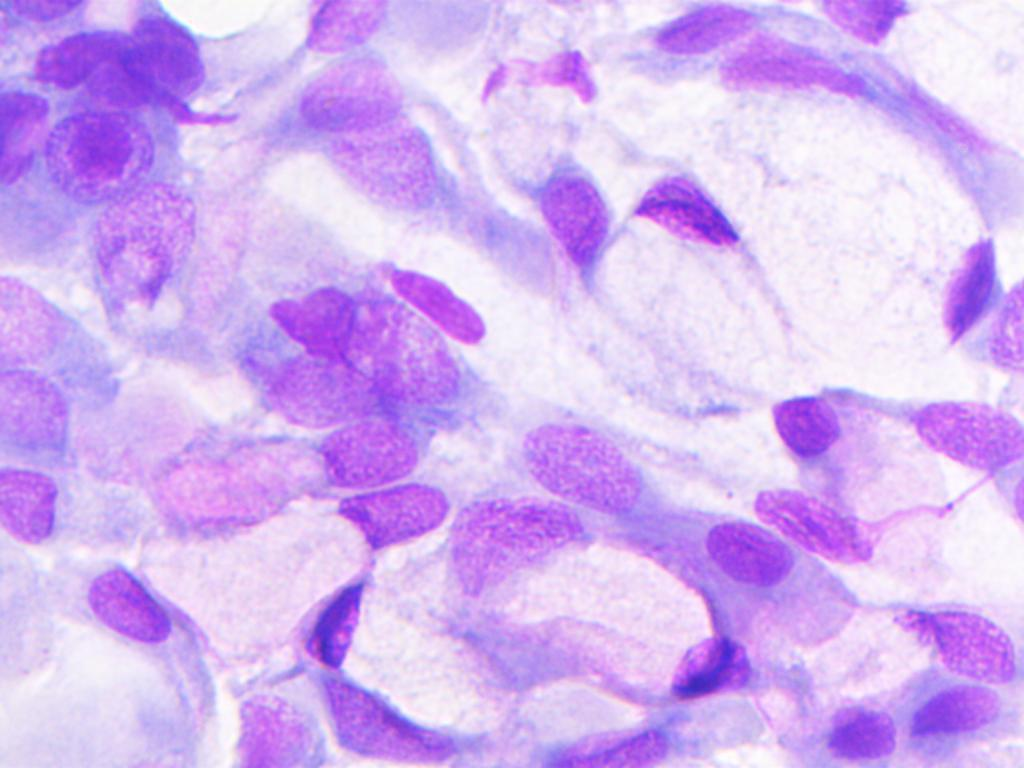artifact: (477, 56, 631, 106)
epithelial: (507, 142, 618, 292), (94, 184, 204, 307), (343, 296, 463, 408), (323, 473, 463, 558), (516, 417, 641, 511), (450, 508, 578, 599), (44, 106, 156, 204), (751, 487, 883, 570), (381, 253, 496, 347), (891, 394, 1024, 474), (890, 604, 1023, 684), (319, 132, 440, 217), (291, 52, 415, 129), (227, 691, 332, 768), (701, 515, 797, 599), (809, 683, 905, 767), (313, 414, 409, 494), (111, 28, 201, 113), (0, 362, 72, 463), (1, 272, 80, 363), (647, 1, 754, 57)
goblet_cell: (557, 164, 810, 418), (285, 576, 520, 744), (772, 392, 949, 533), (84, 547, 282, 642), (871, 210, 1005, 349), (347, 624, 466, 763), (820, 0, 1024, 78), (501, 684, 672, 764), (0, 460, 156, 547), (590, 615, 755, 691), (207, 0, 394, 56)
